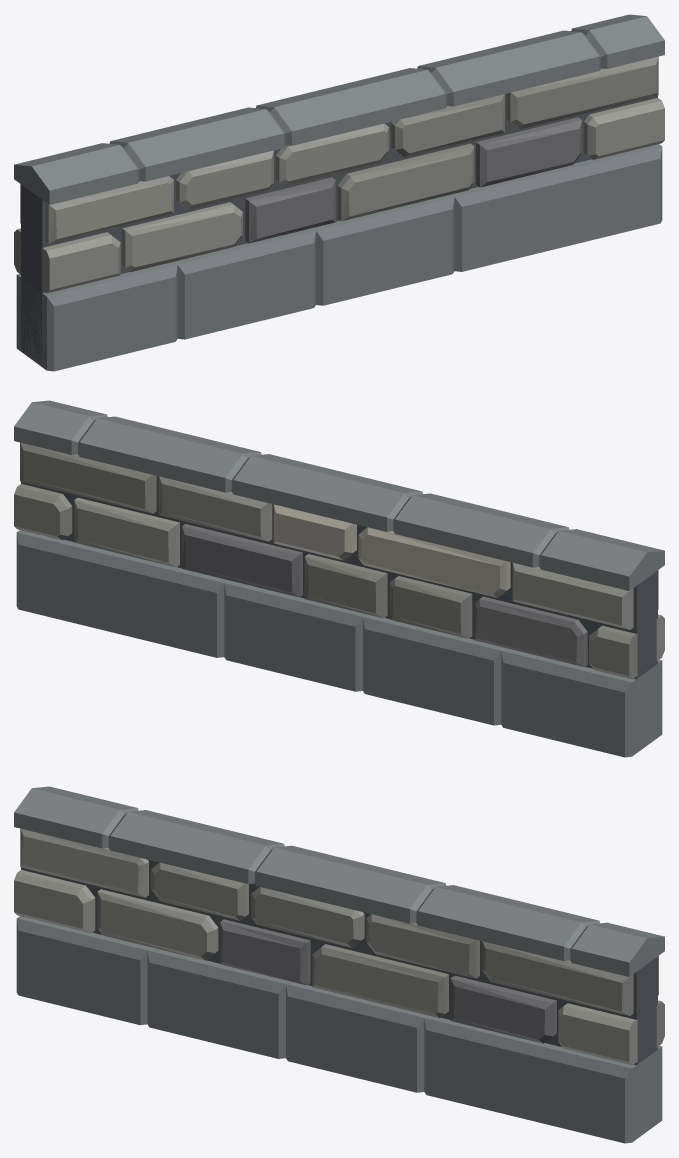
File: SM_LPD_Struct_WallParapet_01.fbx
3 renders of one model, top to bottom at view 1: azimuth 30°, elevation 25°; view 2: azimuth 150°, elevation 25°; view 3: azimuth 330°, elevation 25°, orthographic.
Parts seen in each view (by area): view 1: SM_LPD_Struct_WallParapet_01; view 2: SM_LPD_Struct_WallParapet_01; view 3: SM_LPD_Struct_WallParapet_01.
Part boxes in pixels (left/top/right/bottom): SM_LPD_Struct_WallParapet_01: left=14, top=14, right=664, bottom=371; SM_LPD_Struct_WallParapet_01: left=14, top=400, right=664, bottom=757; SM_LPD_Struct_WallParapet_01: left=14, top=786, right=664, bottom=1143.
Bounding box in the file's own units: 4 × 1.2 × 0.4.
